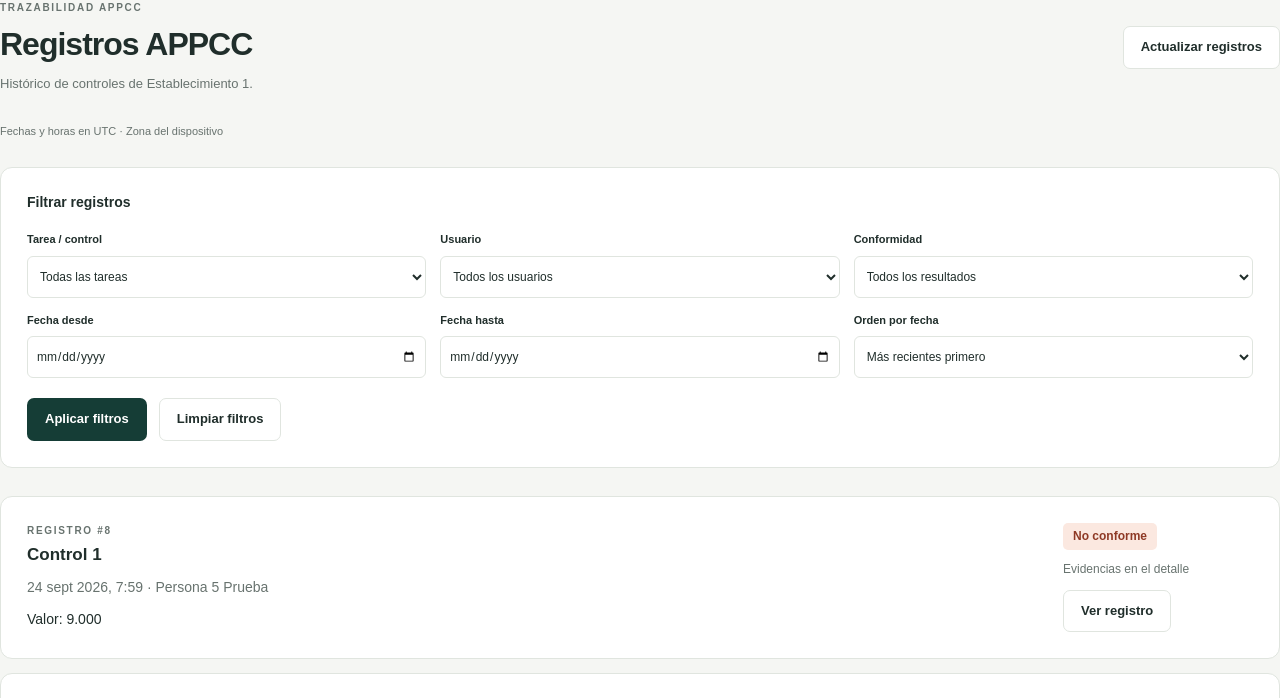
401 válido en descarga retira el contenido privado
Click the button with aria-label "Ver registro #8". click: (1117, 611)
box: 1063,590 -> 1171,632
(page scrolled)
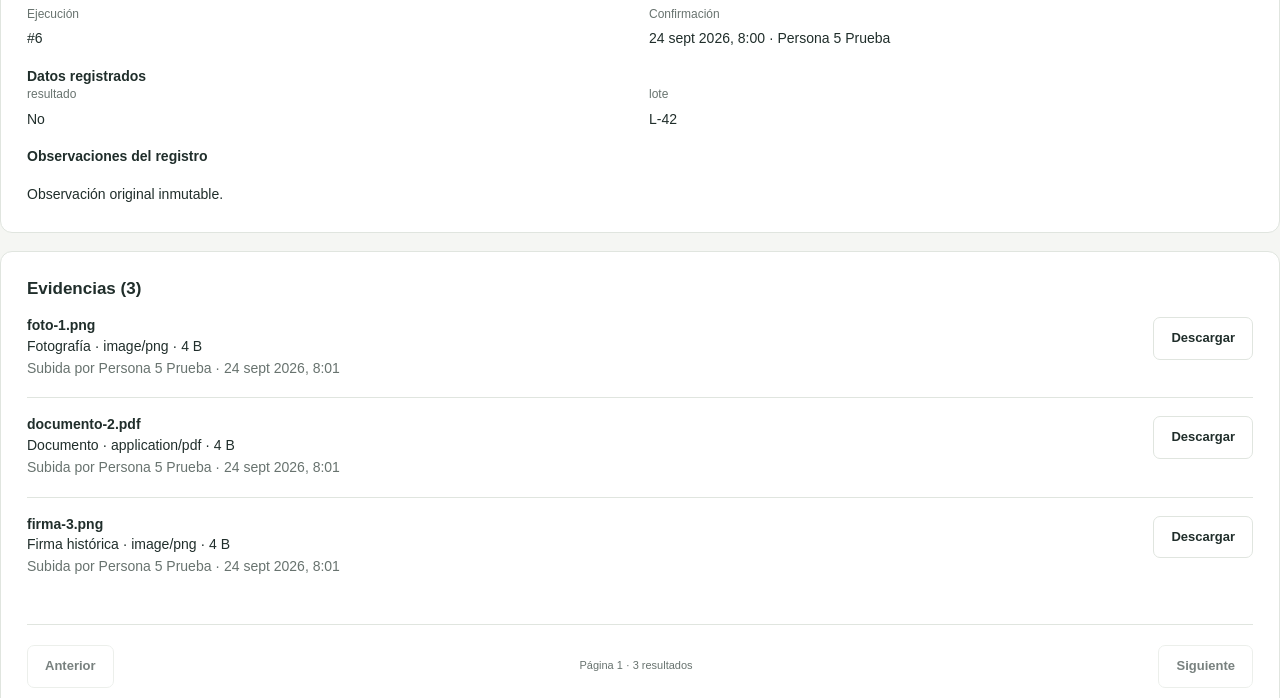
Click the button with aria-label "Descargar foto-1.png (#1)". click: (1203, 338)
box: 1153,317 -> 1253,360
(page scrolled)
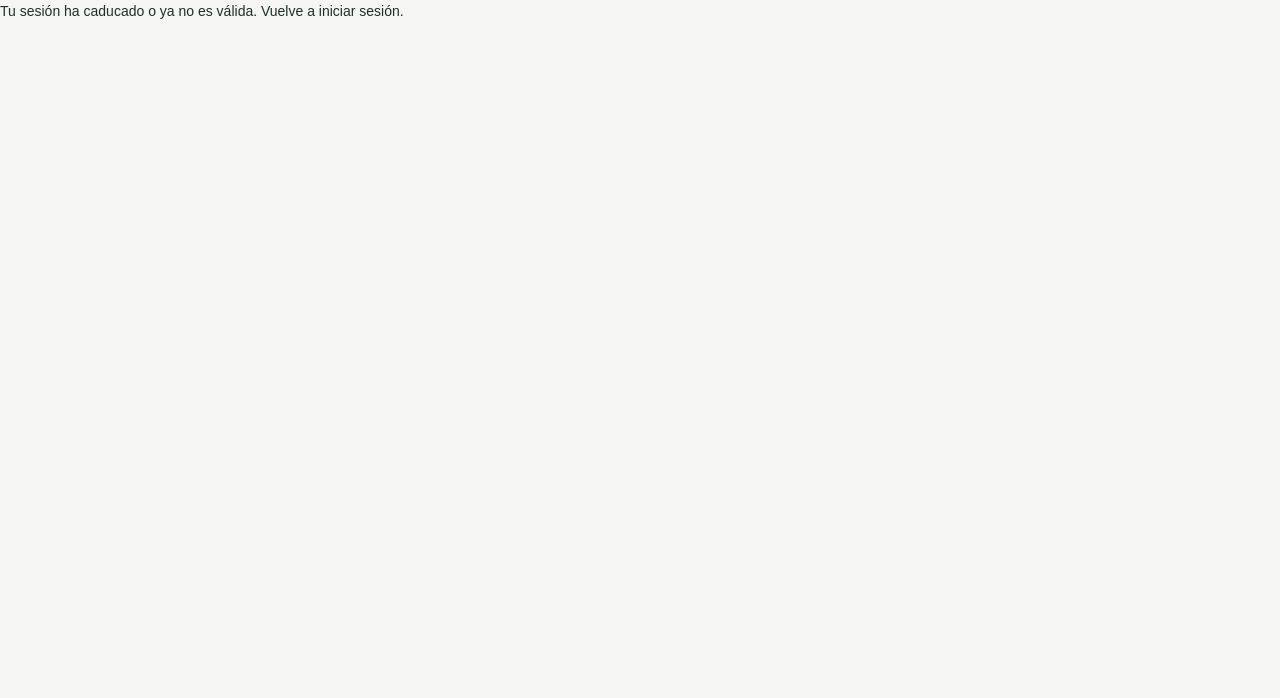
Result: the message shows "sesión ha caducado" at 0,3 -> 404,19
